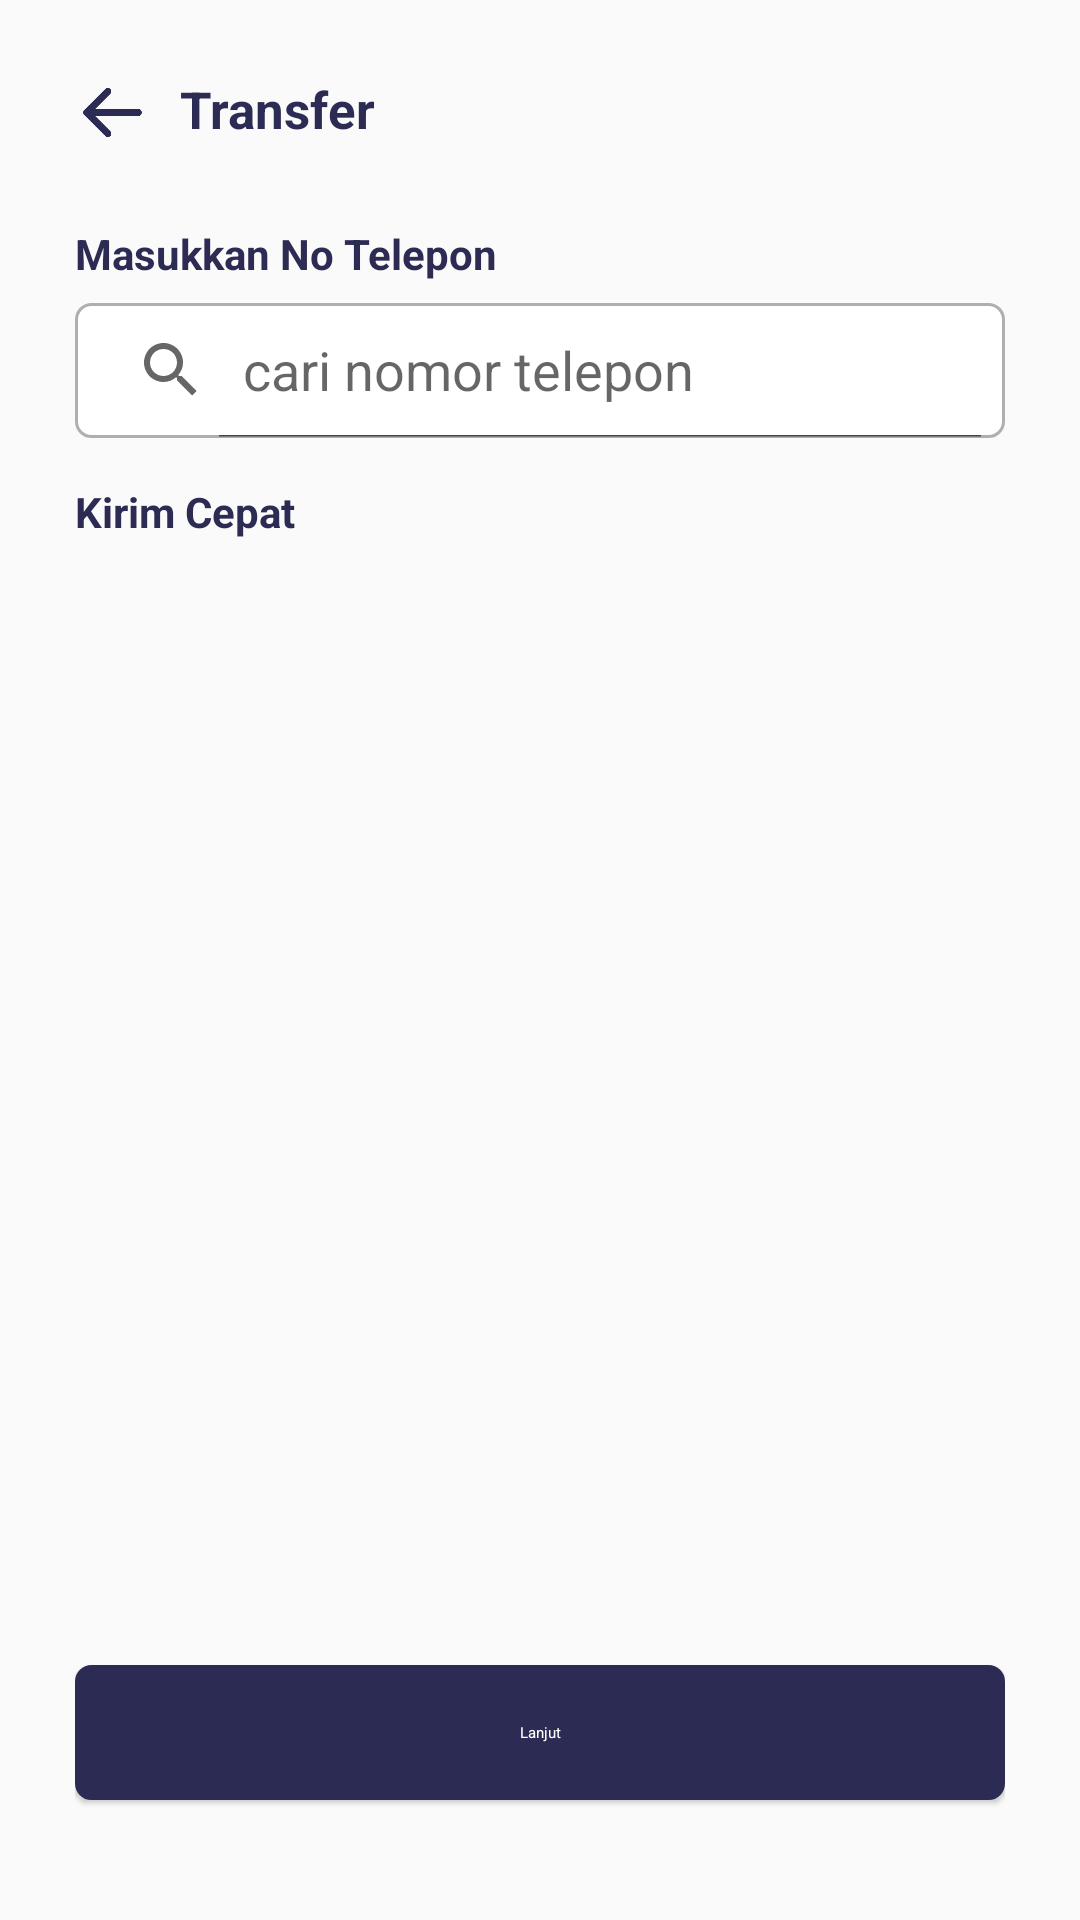

Locate icon controls on the screen. Image size 1080px×1920px, boxes as (x1, y1, x2, y2).
arrow back: (83, 88, 142, 137)
